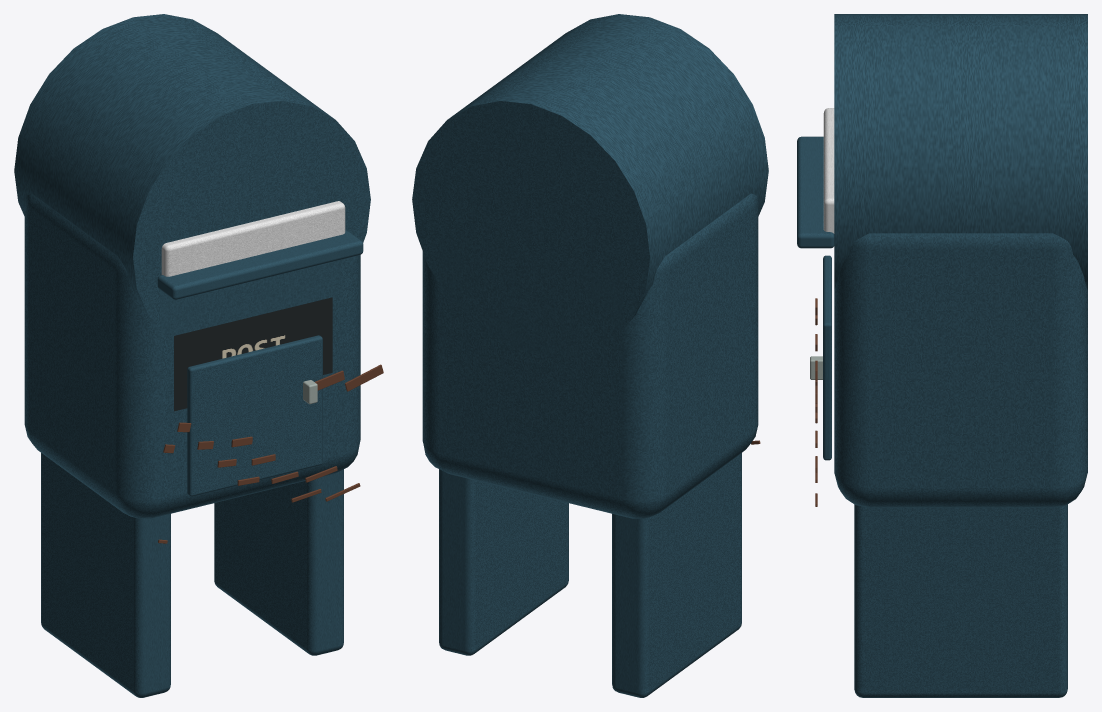
The model's file is mailbox.glb.
3 renders of one model, left to right at view 1: azimuth 30°, elevation 25°; view 2: azimuth 150°, elevation 25°; view 3: azimuth 270°, elevation 25°, orthographic. The views are drawn at different scales.
Parts seen in each view (by area): view 1: city-mailbox, letter-box, mail-slot; view 2: city-mailbox, letter-box; view 3: city-mailbox, letter-box, mail-slot.
Boxes of the visible parts, x1,y1,x2,y2 form: city-mailbox: (14,14,383,697); letter-box: (24,193,360,518); mail-slot: (161,201,345,276); city-mailbox: (412,14,768,697); letter-box: (422,193,758,518); city-mailbox: (797,14,1087,697); letter-box: (834,233,1087,507); mail-slot: (823,108,834,233).
Bounding box in the file's own units: 0.6765 × 1.53 × 0.6535.
Materials: 5 (5 with a texture image).
